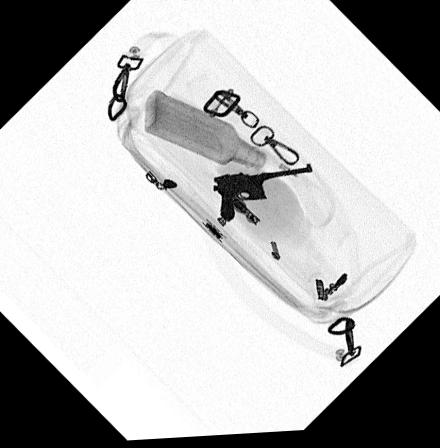Gun: (210, 165, 311, 225)
